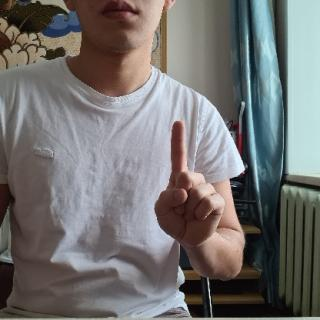BAA: (151, 118, 229, 248)
